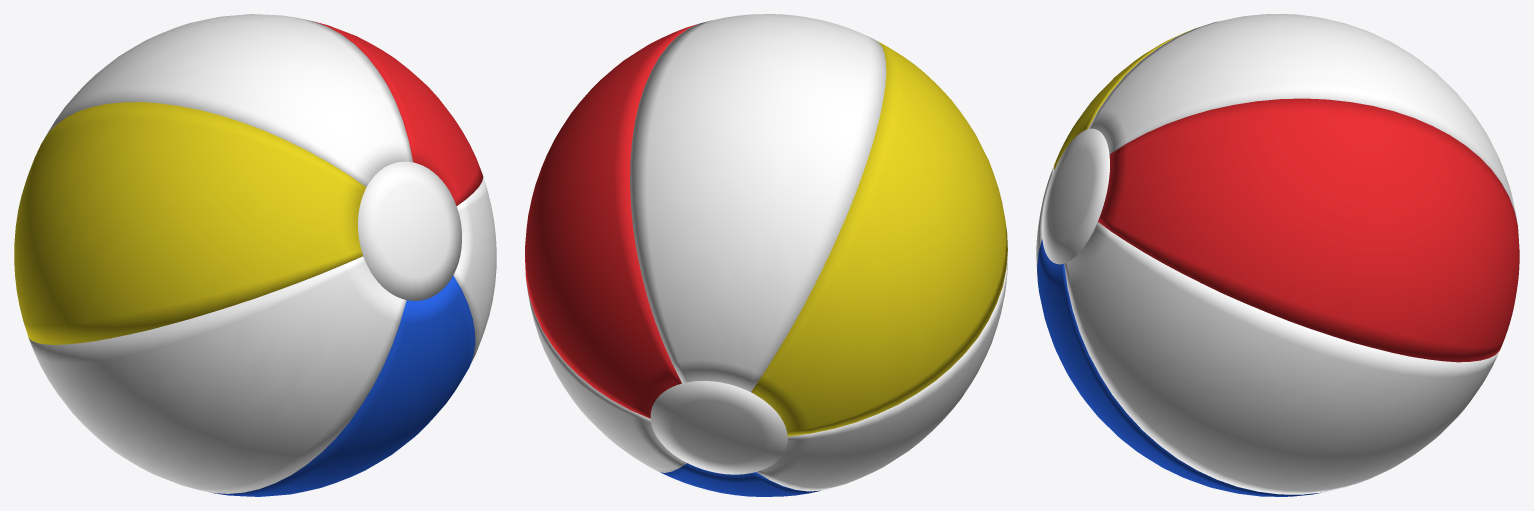
The model's file is ball.glb.
3 views of the same model, side by side, from view 1: azimuth 30°, elevation 25°; view 2: azimuth 150°, elevation 25°; view 3: azimuth 270°, elevation 25° (orthographic).
Visible parts, largest first — view 1: beach_ball; view 2: beach_ball; view 3: beach_ball.
Boxes of the visible parts, x1=… form: beach_ball: x1=14, y1=14, x2=496, y2=496; beach_ball: x1=525, y1=14, x2=1007, y2=496; beach_ball: x1=1036, y1=14, x2=1519, y2=496.
Size of the model in its own units: 12.12 by 12.11 by 12.12.
